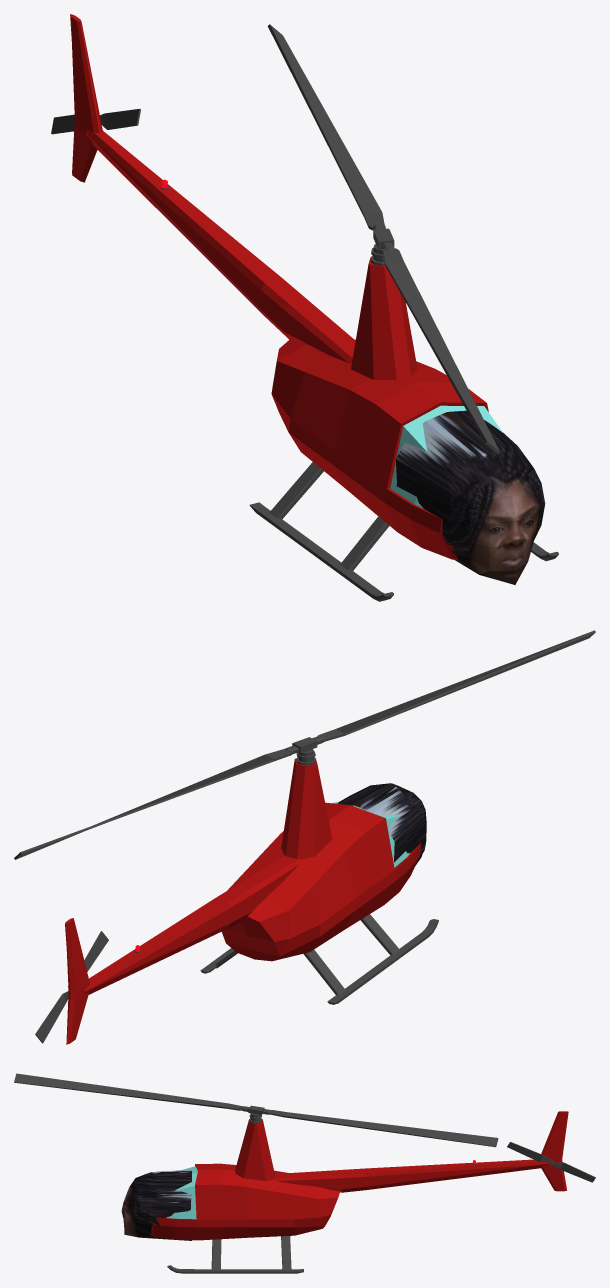
The model's file is franciacoptero.glb.
3 renders of one model, top to bottom at view 1: azimuth 30°, elevation 25°; view 2: azimuth 150°, elevation 25°; view 3: azimuth 270°, elevation 25°, orthographic. The views are drawn at different scales.
Parts seen in each view (by area): view 1: Cuerpo, Helice, HeliceCola; view 2: Cuerpo, Helice, HeliceCola; view 3: Cuerpo, Helice, HeliceCola.
Part boxes in pixels (x1=…): Cuerpo: x1=70, y1=14, x2=558, y2=601; Helice: x1=267, y1=24, x2=500, y2=454; HeliceCola: x1=51, y1=109, x2=140, y2=134; Cuerpo: x1=65, y1=749, x2=438, y2=1044; Helice: x1=14, y1=630, x2=595, y2=859; HeliceCola: x1=35, y1=931, x2=108, y2=1043; Cuerpo: x1=121, y1=1111, x2=568, y2=1273; Helice: x1=14, y1=1073, x2=498, y2=1147; HeliceCola: x1=507, y1=1142, x2=595, y2=1182.
Size of the model in its own units: 4.13 by 4.15 by 15.01.
5 materials, 1 textured.
